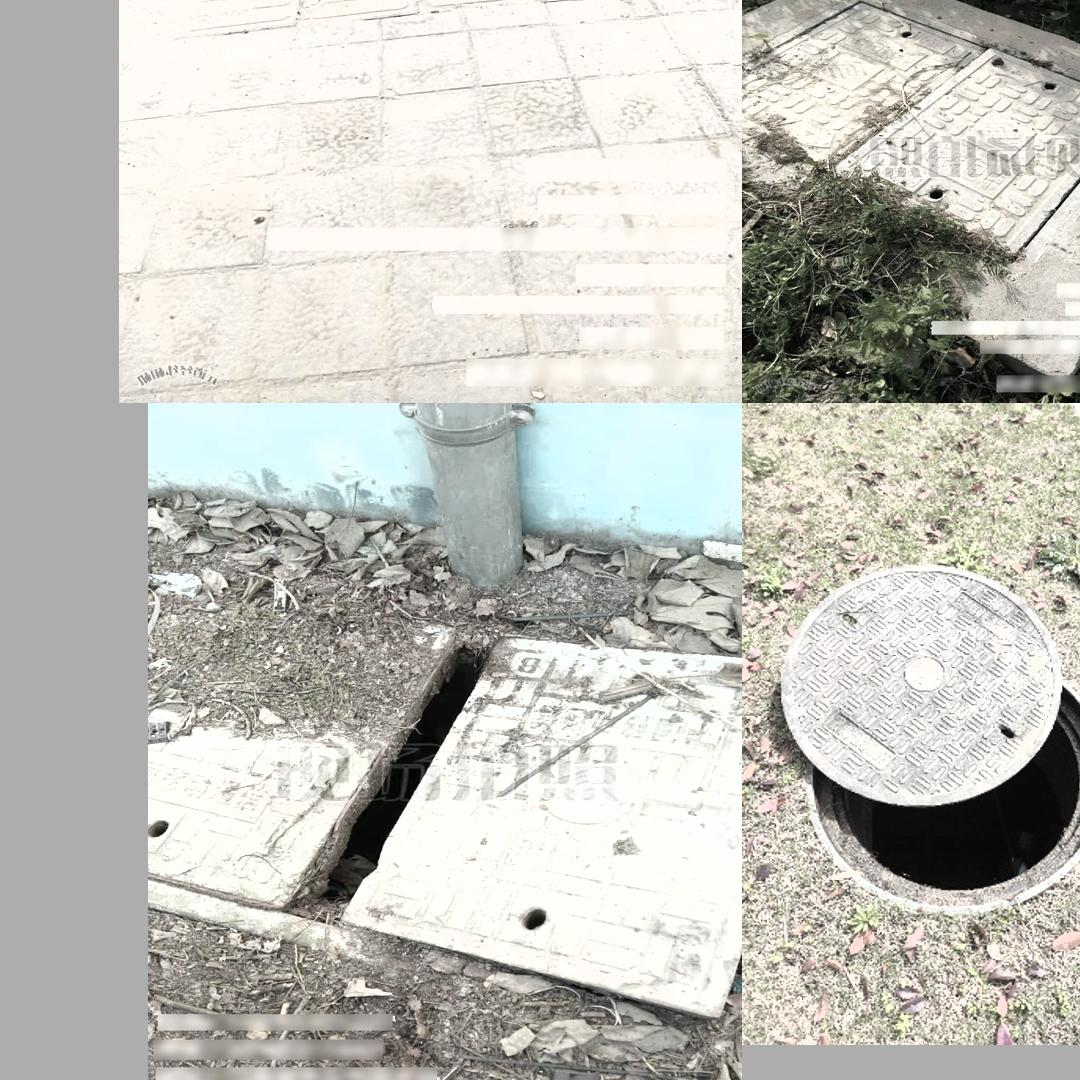uncovered: (150, 616, 742, 1019), (779, 565, 1080, 912), (742, 0, 1080, 272)
